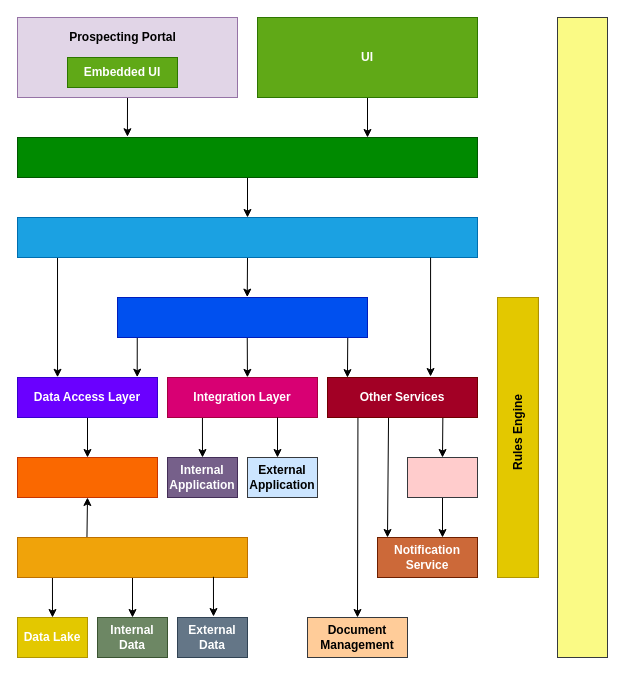
The diagram is 630 pixels wide and 675 high, and some of its shapes have lost their labels. The shapes that lost their labels are listed below. From the top down, each one's box as (x1, y1, x2, y2) in pixels, then its label:
(16, 136, 478, 178): Experience API Layer (Composite API, API Orchestration)
(16, 216, 478, 258): Core API Layer
(116, 296, 368, 338): Business Logic / Process Layer
(556, 16, 608, 658): Security
(16, 456, 158, 498): Data Sources / Data Lake
(406, 456, 478, 498): Reminder Service
(16, 536, 248, 578): ETL Layer
